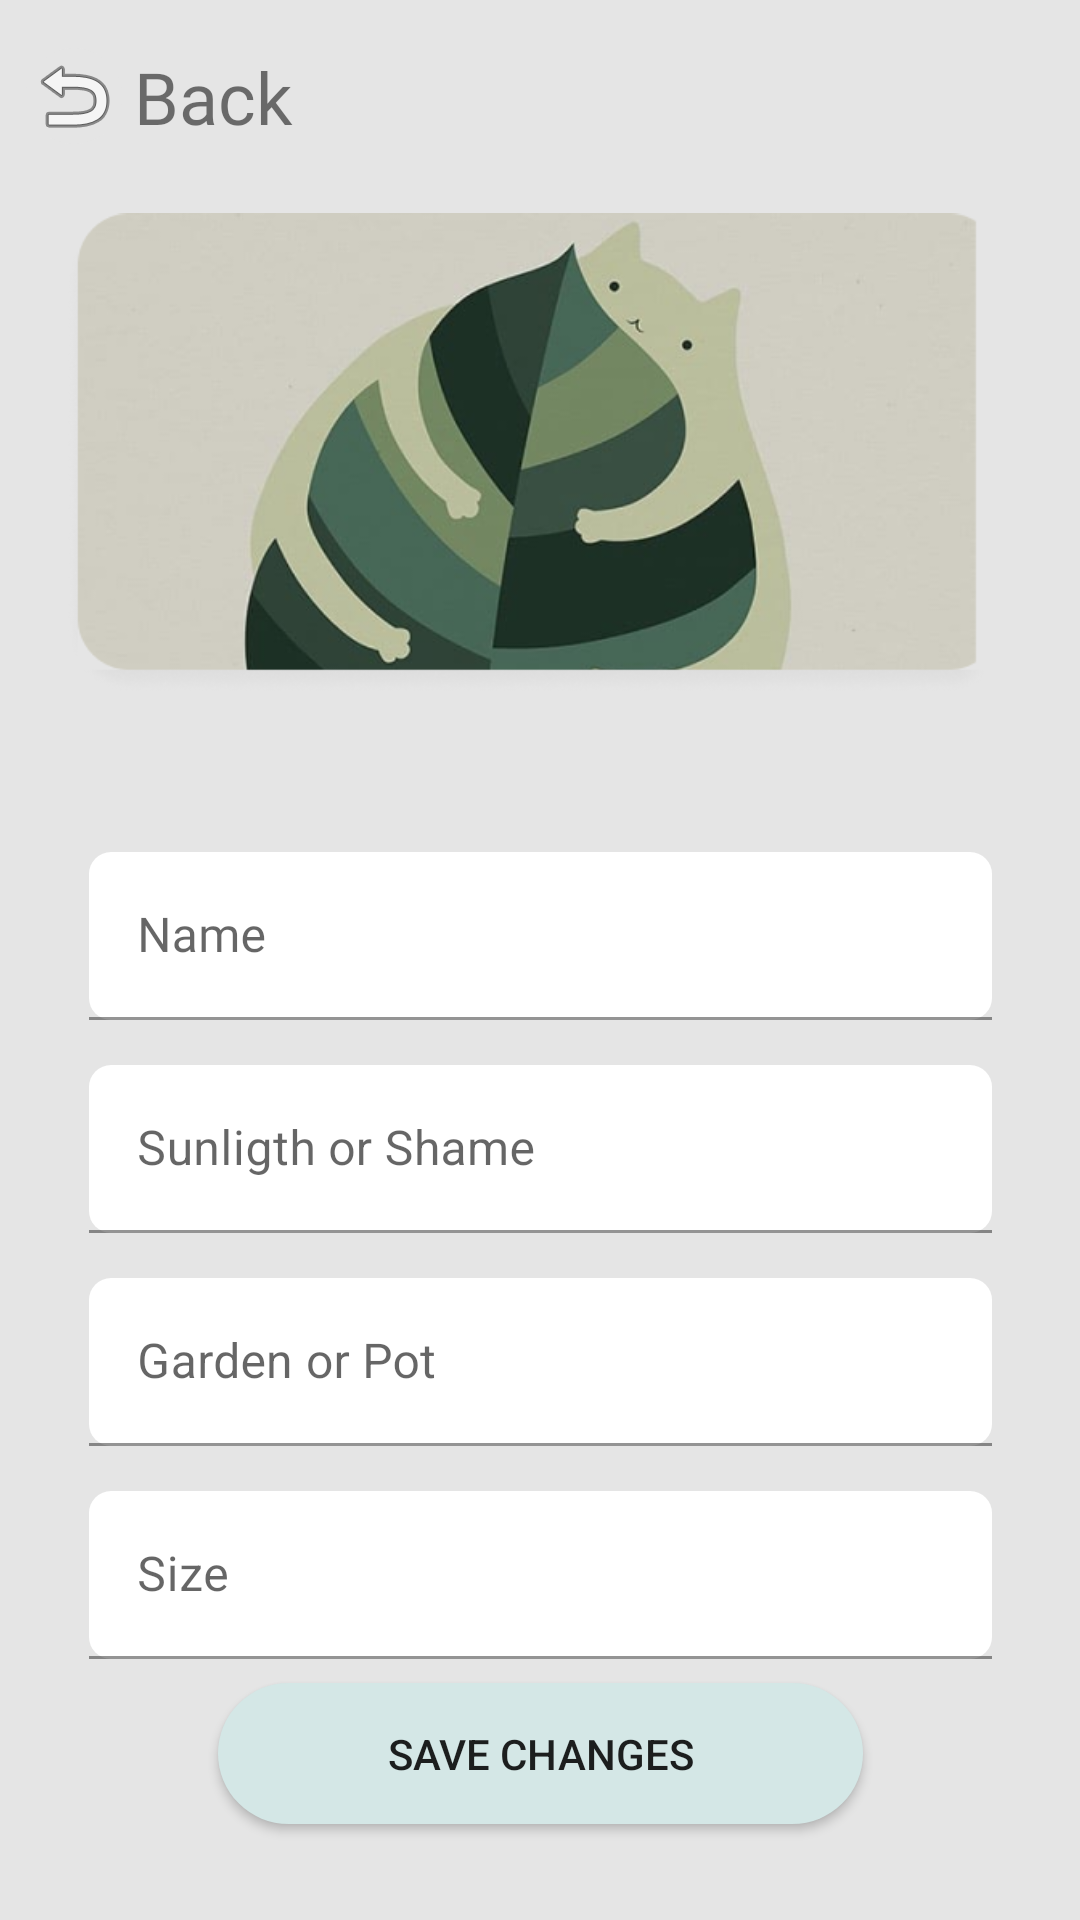

Locate icon controls on the screen. Image size 1080w x 1920h, boxes as (x1, y1, x2, y2).
revert: (41, 65, 110, 128)
